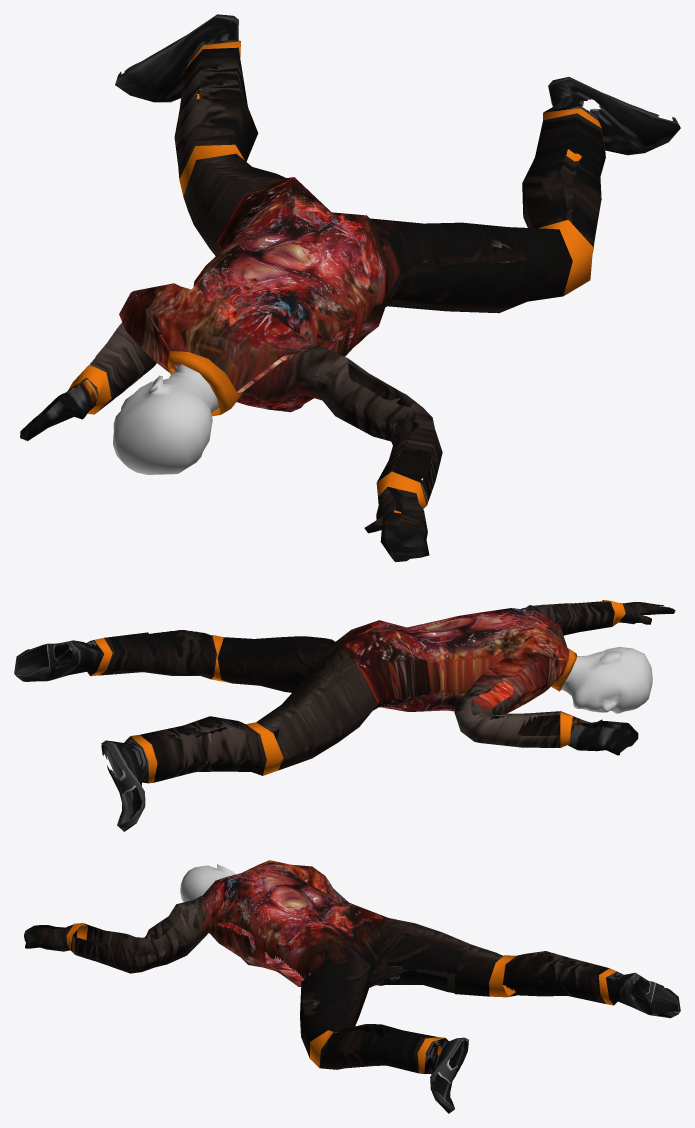
Rendered from dead_body1.fbx.
3 renders of one model, top to bottom at view 1: azimuth 30°, elevation 25°; view 2: azimuth 150°, elevation 25°; view 3: azimuth 270°, elevation 25°, orthographic. The views are drawn at different scales.
Parts seen in each view (by area): view 1: dead_body; view 2: dead_body; view 3: dead_body.
Boxes of the visible parts, box(x1,y1,x2,y2) form: dead_body: box(20, 14, 680, 562); dead_body: box(14, 600, 675, 831); dead_body: box(24, 860, 680, 1113).
Bounding box in the file's own units: 126 × 22.46 × 150.
